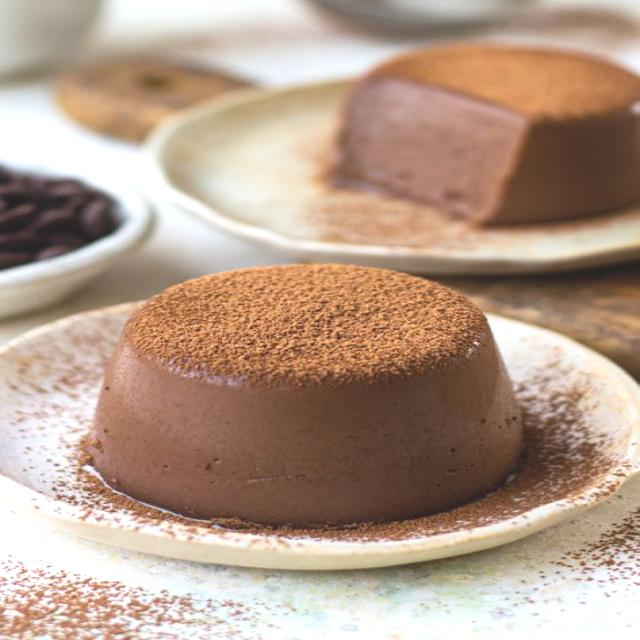puding: (87, 263, 525, 531)
